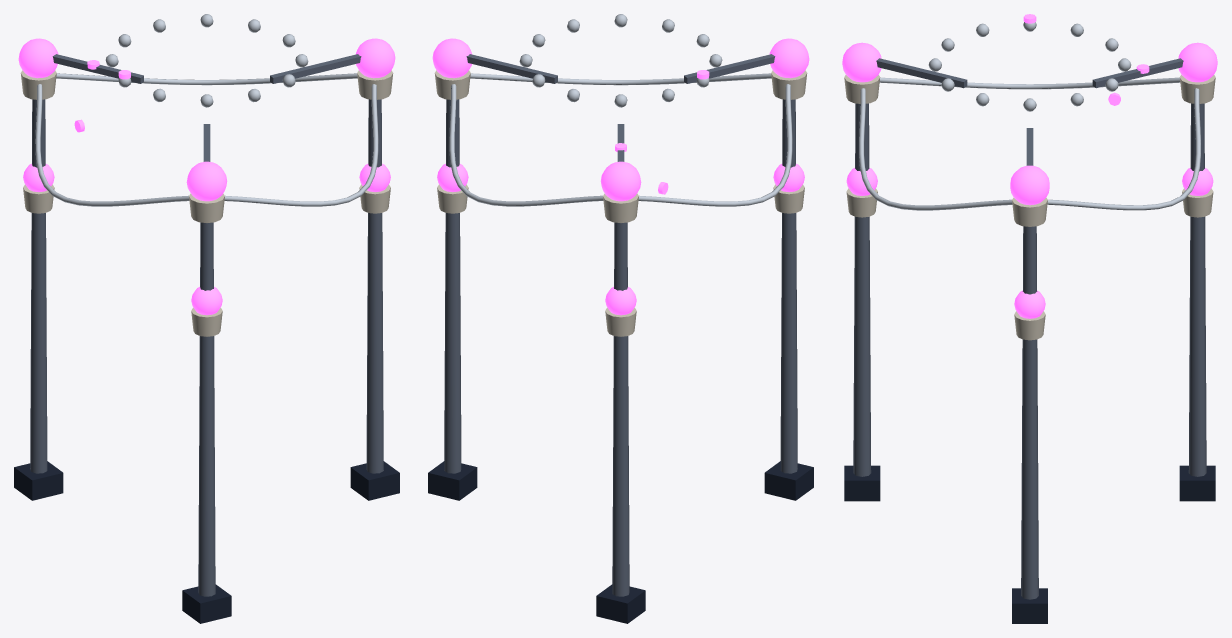
File: tower_arc_range_s6.glb
The picture shows the model from 3 angles, left to right: view 1: azimuth 30°, elevation 25°; view 2: azimuth 150°, elevation 25°; view 3: azimuth 270°, elevation 25°; orthographic projection.
Visible parts, largest first — view 1: arc_sat_strut2, arc_sat_strut1, arc_sat_strut0, arc_relay_wire1, arc_relay_wire2, arc_relay_wire0, arc_sat_foot1, arc_sat_foot2, arc_sat_foot0, arc_sat_electrode2, arc_sat_electrode1, arc_sat_electrode0 (+11 smaller); view 2: arc_sat_strut0, arc_sat_strut1, arc_sat_strut2, arc_relay_wire2, arc_relay_wire0, arc_relay_wire1, arc_sat_foot1, arc_sat_foot0, arc_sat_foot2, arc_sat_electrode0, arc_sat_electrode1, arc_sat_electrode2 (+11 smaller); view 3: arc_sat_strut1, arc_sat_strut2, arc_sat_strut0, arc_relay_wire1, arc_relay_wire2, arc_relay_wire0, arc_sat_electrode1, arc_sat_electrode0, arc_sat_electrode2, arc_sat_foot0, arc_sat_foot2, arc_sat_foot1 (+11 smaller).
Boxes of the visible parts, x1=… form: arc_sat_strut2: x1=198, y1=222, x2=215, y2=596; arc_sat_strut1: x1=366, y1=99, x2=383, y2=473; arc_sat_strut0: x1=30, y1=99, x2=47, y2=473; arc_relay_wire1: x1=224, y1=84, x2=378, y2=206; arc_relay_wire2: x1=35, y1=84, x2=189, y2=206; arc_relay_wire0: x1=56, y1=73, x2=357, y2=85; arc_sat_foot1: x1=350, y1=461, x2=399, y2=500; arc_sat_foot2: x1=182, y1=584, x2=231, y2=623; arc_sat_foot0: x1=14, y1=461, x2=63, y2=500; arc_sat_electrode2: x1=186, y1=161, x2=227, y2=201; arc_sat_electrode1: x1=355, y1=38, x2=395, y2=78; arc_sat_electrode0: x1=18, y1=38, x2=58, y2=78; arc_sat_strut0: x1=612, y1=222, x2=629, y2=596; arc_sat_strut1: x1=444, y1=99, x2=461, y2=473; arc_sat_strut2: x1=780, y1=99, x2=797, y2=473; arc_relay_wire2: x1=638, y1=84, x2=792, y2=206; arc_relay_wire0: x1=449, y1=84, x2=603, y2=206; arc_relay_wire1: x1=470, y1=73, x2=771, y2=85; arc_sat_foot1: x1=428, y1=461, x2=477, y2=500; arc_sat_foot0: x1=596, y1=584, x2=645, y2=623; arc_sat_foot2: x1=764, y1=461, x2=813, y2=500; arc_sat_electrode0: x1=600, y1=161, x2=641, y2=201; arc_sat_electrode1: x1=432, y1=38, x2=472, y2=78; arc_sat_electrode2: x1=769, y1=38, x2=809, y2=78; arc_sat_strut1: x1=1021, y1=226, x2=1038, y2=599; arc_sat_strut2: x1=853, y1=103, x2=871, y2=476; arc_sat_strut0: x1=1188, y1=103, x2=1206, y2=476; arc_relay_wire1: x1=859, y1=88, x2=1012, y2=210; arc_relay_wire2: x1=879, y1=77, x2=1180, y2=89; arc_relay_wire0: x1=1047, y1=88, x2=1200, y2=210; arc_sat_electrode1: x1=1010, y1=165, x2=1049, y2=205; arc_sat_electrode0: x1=1178, y1=42, x2=1217, y2=82; arc_sat_electrode2: x1=842, y1=42, x2=881, y2=82; arc_sat_foot0: x1=1179, y1=465, x2=1215, y2=501; arc_sat_foot2: x1=844, y1=465, x2=880, y2=501; arc_sat_foot1: x1=1012, y1=588, x2=1047, y2=623.
Size of the model in its own units: 1.74 by 2.34 by 1.67.
